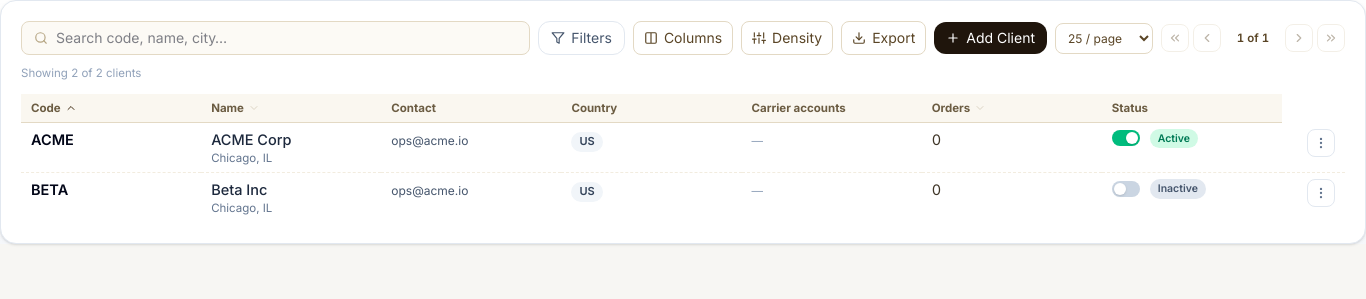
Test: ClientsPage · row actions · roles › ADMIN role: kebab menu exposes Delete action
Click the button named "Row actions" in the row of "ACME Corp" at point(1321, 143), box [1307, 129, 1335, 157]
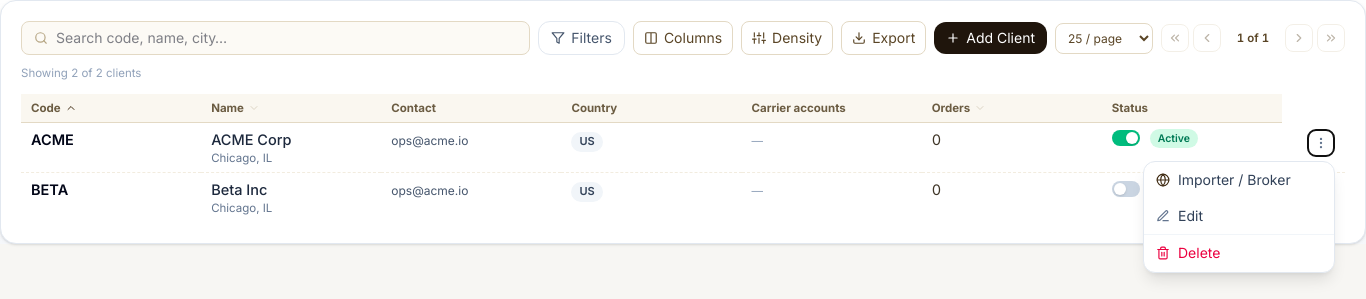
Expected: the menu item "Delete" is shown, [1144, 234, 1334, 272]
Expected: the menu item "Edit" is shown, [1144, 198, 1334, 234]
Expected: the menu item "Importer / Broker" is shown, [1144, 162, 1334, 198]
